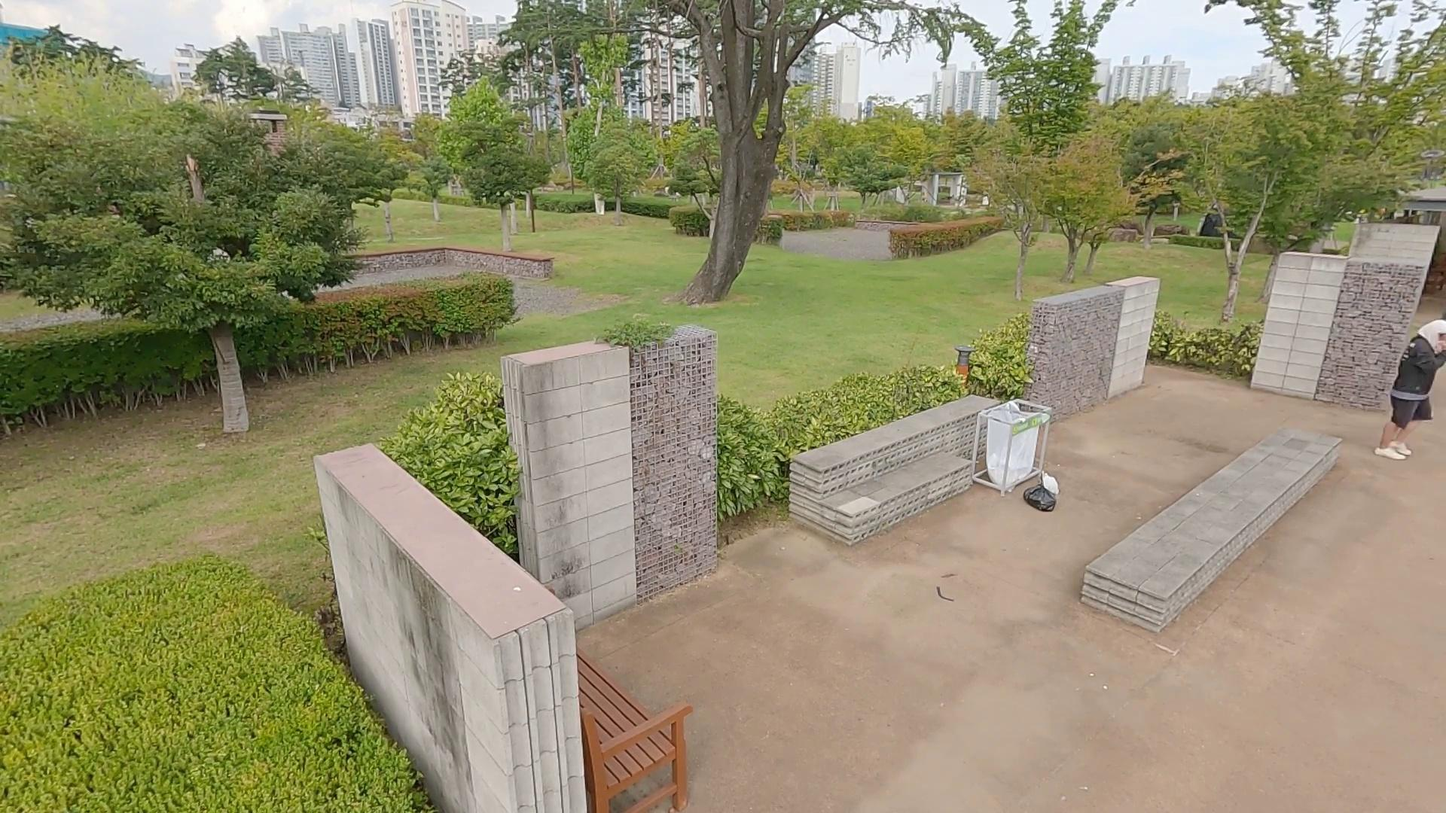person: (1376, 320, 1446, 460)
trash: (1019, 481, 1058, 512), (1041, 470, 1061, 495)
